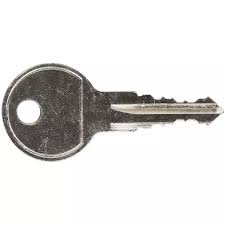kicharina: (2, 59, 225, 165)
